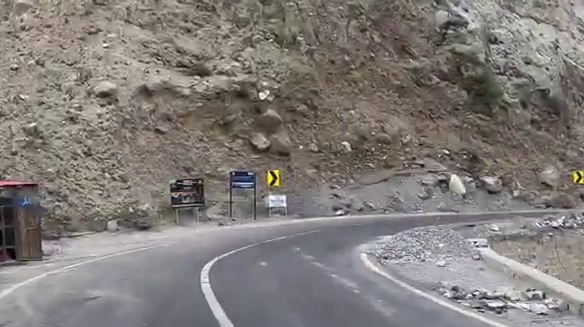stright: (212, 182, 441, 323)
